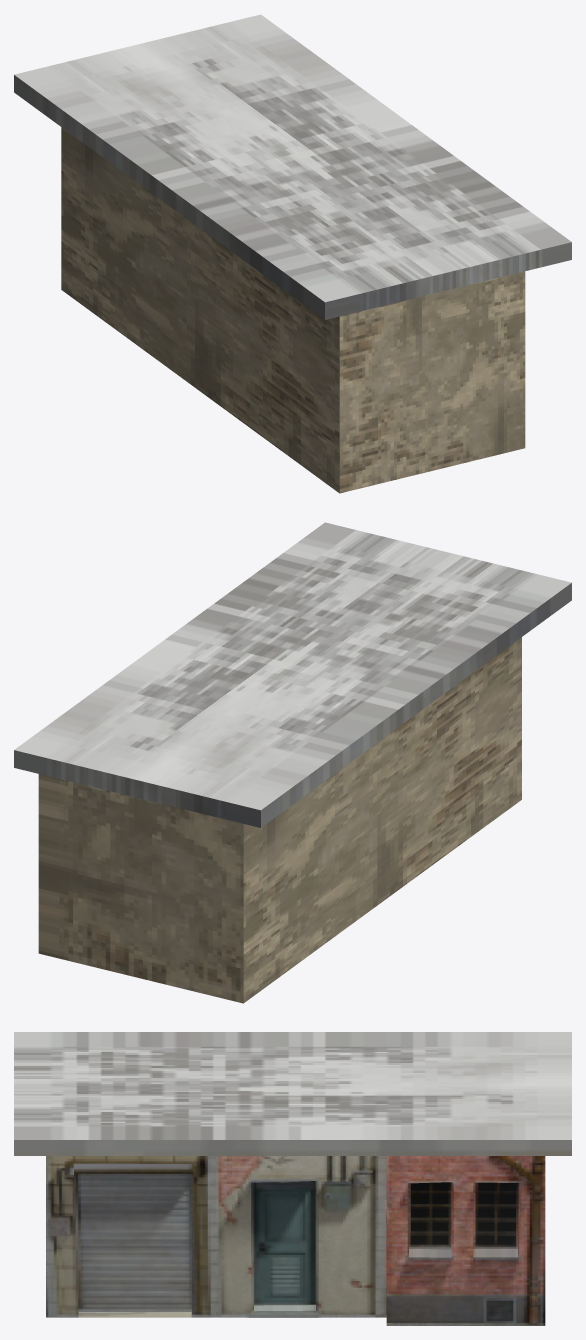
Rendered from House16.fbx.
The picture shows the model from 3 angles, top to bottom: view 1: azimuth 30°, elevation 25°; view 2: azimuth 150°, elevation 25°; view 3: azimuth 270°, elevation 25°; orthographic projection. The views are drawn at different scales.
Parts seen in each view (by area): view 1: Cube; view 2: Cube; view 3: Cube.
Part boxes in pixels (x1,y1,x2,y2): Cube: (14, 14, 571, 493); Cube: (14, 522, 571, 1003); Cube: (14, 1032, 571, 1325).
Bounding box in the file's own units: 734 × 603 × 1602.
1 material, 1 textured.
